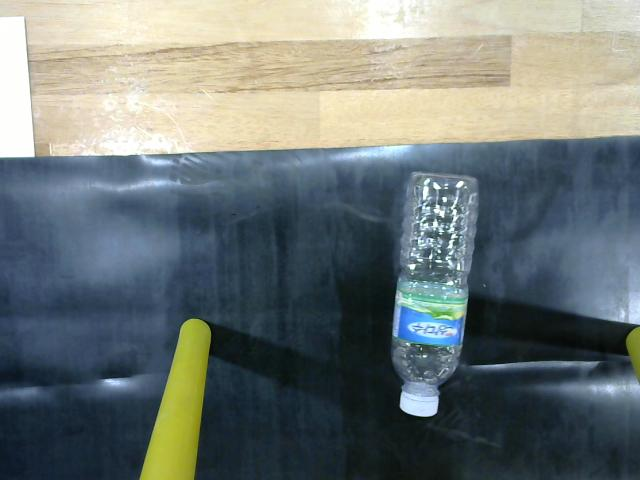bottle: (373, 164, 489, 433)
